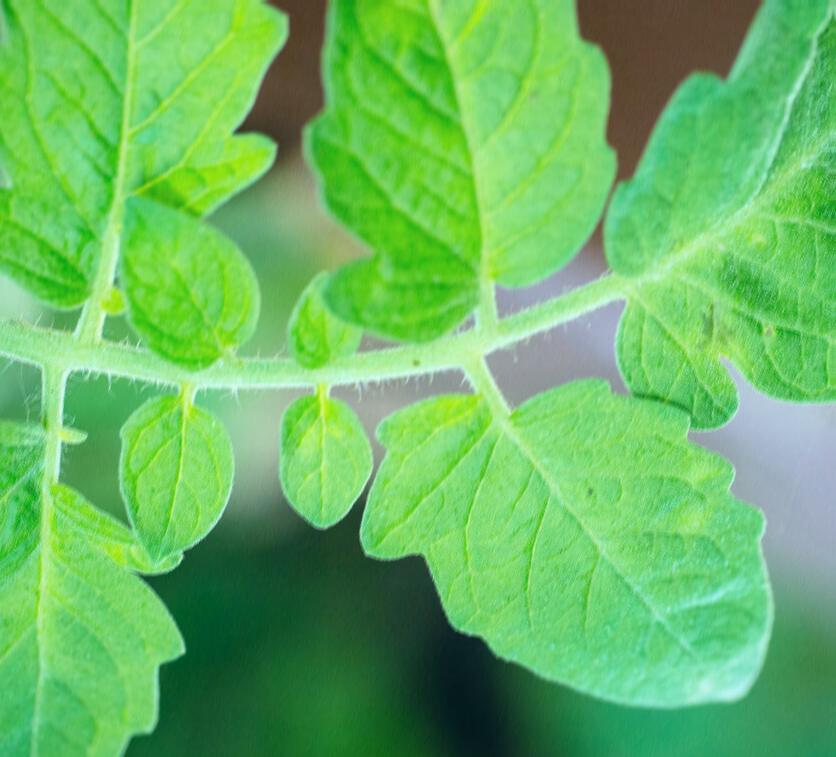Tomato leaf: (382, 356, 776, 721), (318, 0, 600, 351), (0, 0, 290, 319), (626, 0, 836, 425), (0, 412, 151, 757), (122, 196, 282, 378), (121, 373, 246, 553), (272, 373, 375, 542)
